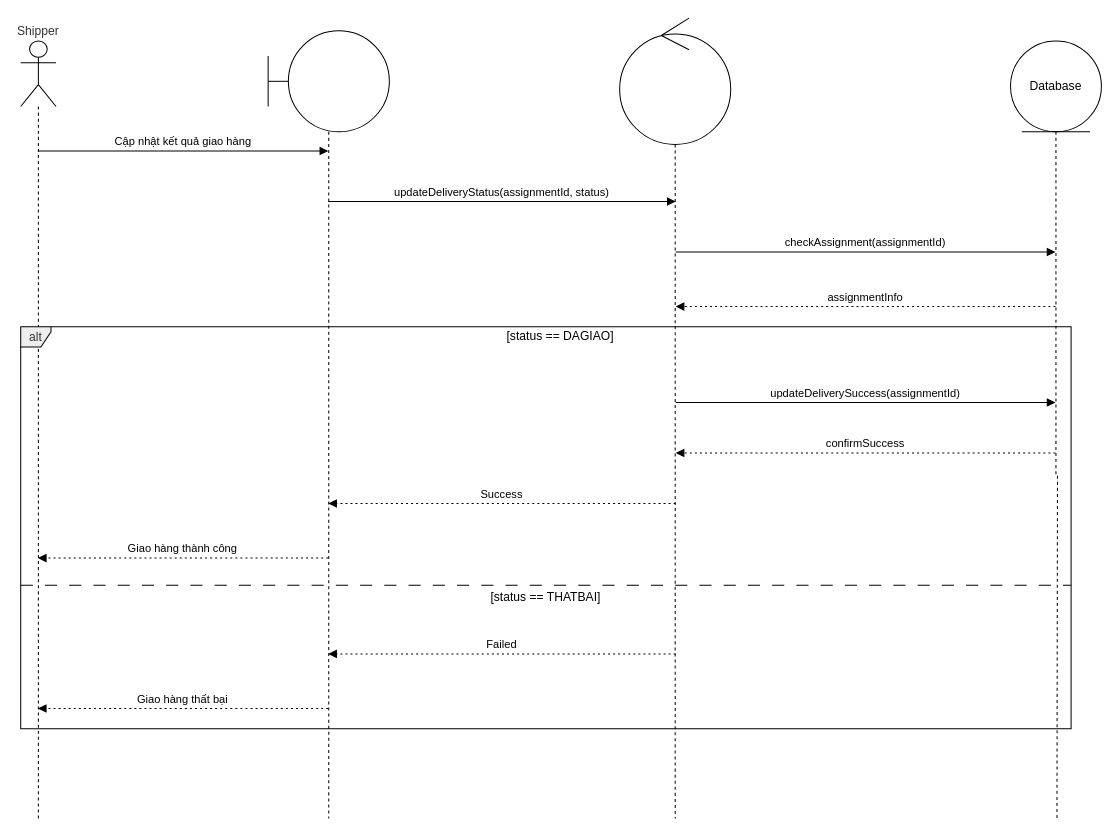
Image size: 1119x837. Some labels were removed from this diagram. Each missing label, with the centre of its shape:
Delivery Controller: the point at 675,80
ShipperUI: the point at 328,81
